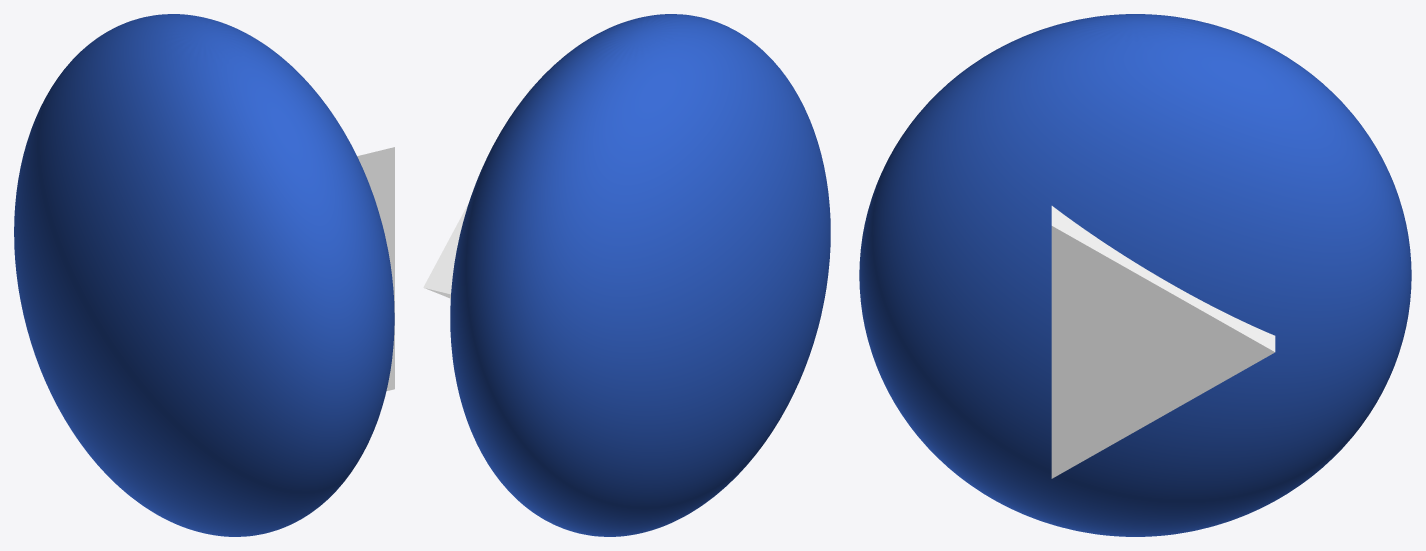
The model's file is Play Button.fbx.
3 views of the same model, side by side, from view 1: azimuth 30°, elevation 25°; view 2: azimuth 150°, elevation 25°; view 3: azimuth 270°, elevation 25° (orthographic). The views are drawn at different scales.
Parts seen in each view (by area): view 1: Sphere, Cube; view 2: Sphere, Cube; view 3: Sphere, Cube.
Boxes of the visible parts, x1,y1,x2,y2 form: Sphere: (14, 14, 394, 536); Cube: (357, 147, 394, 391); Sphere: (450, 14, 830, 536); Cube: (423, 88, 530, 298); Sphere: (859, 14, 1411, 536); Cube: (1051, 206, 1275, 478).
Bounding box in the file's own units: 248 × 399 × 395.
